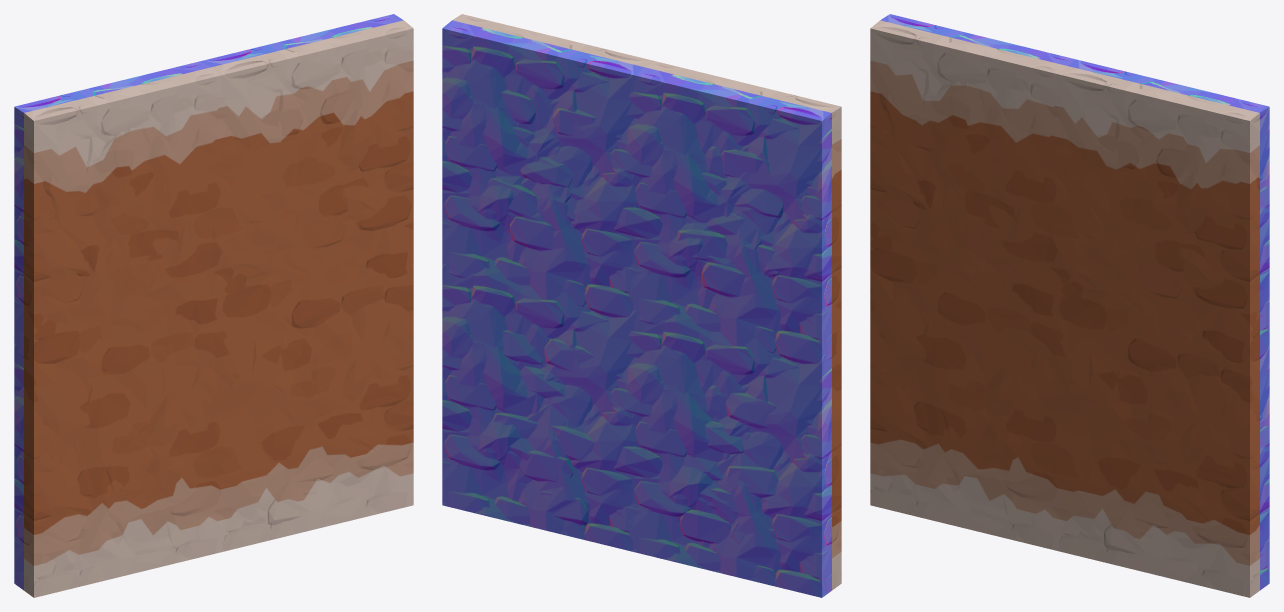
Rendered from SM_Bld_Base_Wall_01.fbx.
The picture shows the model from 3 angles, left to right: view 1: azimuth 30°, elevation 25°; view 2: azimuth 150°, elevation 25°; view 3: azimuth 330°, elevation 25°; orthographic projection.
Parts seen in each view (by area): view 1: SM_Bld_Base_Wall_01; view 2: SM_Bld_Base_Wall_01; view 3: SM_Bld_Base_Wall_01.
Part boxes in pixels (bbox=[...]): SM_Bld_Base_Wall_01: bbox=[14, 14, 413, 597]; SM_Bld_Base_Wall_01: bbox=[442, 14, 841, 597]; SM_Bld_Base_Wall_01: bbox=[870, 14, 1269, 597].
Size of the model in its own units: 250 by 301 by 22.5.
